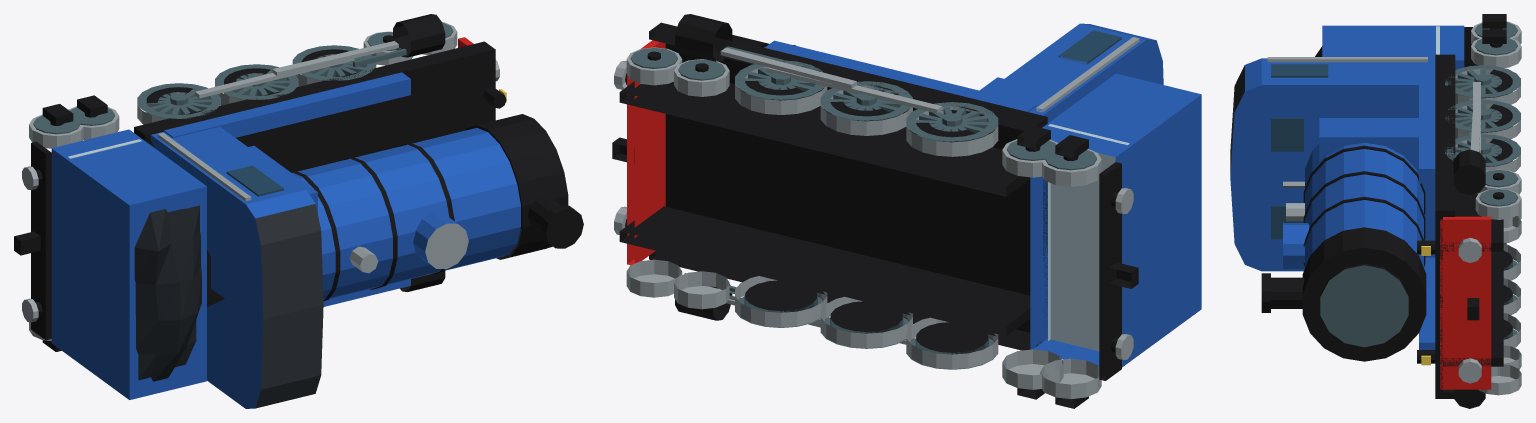
3 views of the same model, side by side, from view 1: azimuth 30°, elevation 25°; view 2: azimuth 150°, elevation 25°; view 3: azimuth 270°, elevation 25° (orthographic). The views are drawn at different scales.
Visible parts, largest first — view 1: default_cab, default_tender, default_boiler, default_running_plate, default_tender_coal, default_smokebox, default_valance1, default_beam_back, default_dome, default_driver01, default_splasher21, default_splasher11 (+20 smaller); view 2: default_running_plate, default_tender, default_frame-1, default_frame1, default_tender_lining, default_cab, default_beam_front, default_beam_back, default_driver01, default_driver0-1, default_driver1-1, default_driver2-1 (+25 smaller); view 3: default_cab, default_boiler, default_smokebox, default_beam_front, default_smokebox_door, default_tender, default_firebox, default_valance1, default_running_plate, default_driver01, default_driver11, default_frame-1 (+37 smaller).
Boxes of the visible parts, x1,y1,x2,y2 form: default_cab: (150, 126, 323, 408); default_tender: (51, 129, 206, 399); default_boiler: (292, 128, 520, 299); default_running_plate: (140, 46, 495, 306); default_tender_coal: (134, 205, 201, 381); default_smokebox: (465, 114, 568, 259); default_valance1: (134, 41, 495, 141); default_beam_back: (31, 141, 51, 340); default_dome: (413, 213, 468, 269); default_driver01: (137, 83, 220, 124); default_splasher21: (319, 72, 410, 113); default_splasher11: (247, 92, 333, 133); default_running_plate: (657, 22, 1047, 345); default_tender: (1030, 73, 1201, 367); default_frame-1: (619, 206, 1030, 336); default_frame1: (619, 81, 1030, 196); default_tender_lining: (1048, 124, 1129, 351); default_cab: (986, 23, 1163, 123); default_beam_front: (627, 40, 665, 265); default_beam_back: (1099, 162, 1121, 380); default_driver01: (906, 102, 998, 156); default_driver0-1: (906, 317, 998, 369); default_driver1-1: (820, 296, 912, 348); default_driver2-1: (735, 276, 827, 327); default_cab: (1230, 58, 1435, 271); default_boiler: (1305, 142, 1423, 267); default_smokebox: (1302, 227, 1426, 361); default_beam_front: (1440, 216, 1491, 389); default_smokebox_door: (1320, 263, 1408, 347); default_tender: (1322, 25, 1464, 117); default_firebox: (1319, 118, 1435, 257); default_valance1: (1435, 54, 1455, 216); default_running_plate: (1435, 54, 1442, 398); default_driver01: (1445, 65, 1520, 104); default_driver11: (1445, 99, 1520, 139); default_frame-1: (1443, 251, 1503, 366).
Size of the model in its own units: 8.25 by 4.46 by 4.82.
